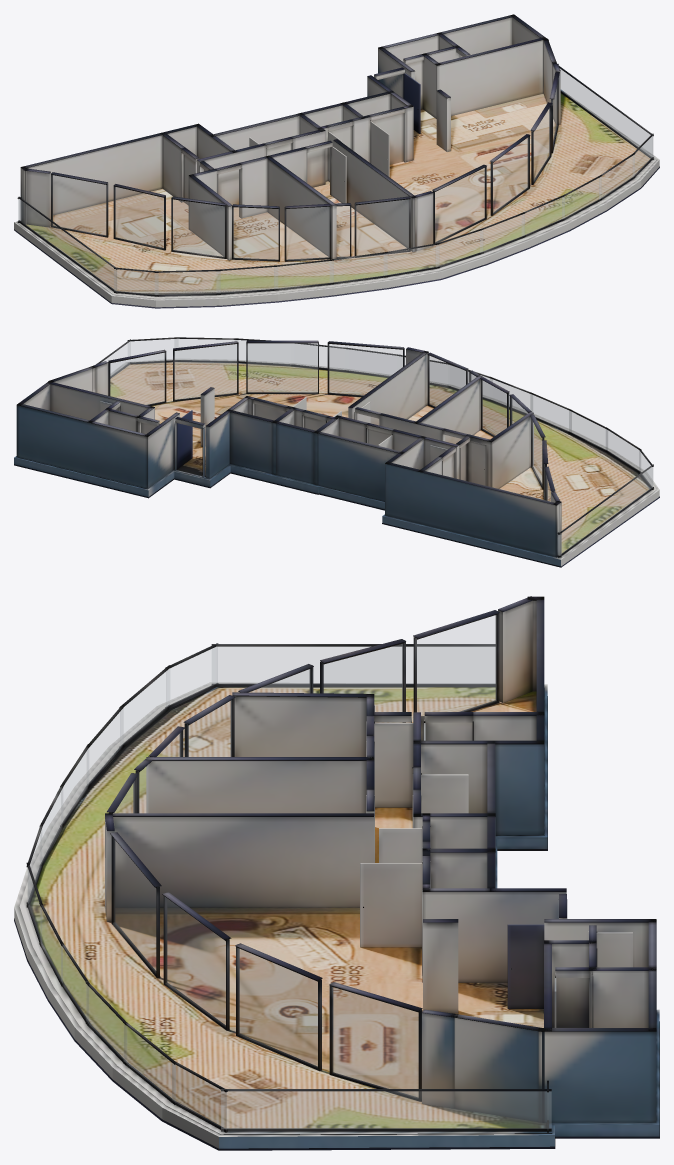
3 views of the same model, one above another, from view 1: azimuth 30°, elevation 25°; view 2: azimuth 150°, elevation 25°; view 3: azimuth 270°, elevation 25° (orthographic). The views are drawn at different scales.
Visible parts, largest first — view 1: plan, glass0_m, glass2_m, glass6_m, glass7_m, glass1_m, glass3_m, glass4_m, railg3_m, railg2_m, glass8_m, railg14_m (+13 smaller); view 2: plan, glass8_m, glass7_m, glass9_m, glass10_m, railg3_m, glass6_m, glass4_m, railg5_m, railg7_m, railg8_m, railg6_m (+9 smaller); view 3: plan, railg2_m, railg3_m, glass10_m, glass9_m, glass0_m, glass8_m, glass1_m, glass7_m, railg4_m, railg15_m, railg5_m (+8 smaller).
Part boxes in pixels (x1,y1,x2,y2): plan: [14, 14, 659, 308]; glass0_m: [52, 175, 105, 235]; glass2_m: [173, 199, 224, 256]; glass6_m: [356, 199, 408, 255]; glass7_m: [435, 168, 484, 242]; glass1_m: [115, 187, 163, 248]; glass3_m: [233, 207, 278, 259]; glass4_m: [286, 207, 329, 259]; railg3_m: [19, 199, 116, 291]; railg2_m: [560, 69, 652, 157]; glass8_m: [493, 138, 528, 212]; railg14_m: [155, 271, 220, 294]; plan: [14, 337, 659, 567]; glass8_m: [248, 343, 317, 392]; glass7_m: [329, 344, 402, 395]; glass9_m: [175, 344, 236, 399]; glass10_m: [110, 353, 164, 404]; railg3_m: [558, 467, 653, 555]; glass6_m: [429, 356, 465, 406]; glass4_m: [482, 380, 506, 435]; railg5_m: [175, 339, 238, 360]; railg7_m: [294, 344, 344, 369]; railg8_m: [349, 350, 396, 375]; railg6_m: [235, 340, 290, 363]; plan: [14, 596, 659, 1150]; railg2_m: [221, 1091, 551, 1128]; railg3_m: [212, 647, 494, 683]; glass10_m: [332, 987, 418, 1097]; glass9_m: [239, 949, 317, 1066]; glass0_m: [417, 615, 496, 715]; glass8_m: [166, 898, 225, 1026]; glass1_m: [324, 644, 402, 711]; glass7_m: [114, 839, 155, 972]; railg4_m: [172, 1063, 226, 1129]; railg15_m: [166, 647, 217, 706]; railg5_m: [124, 1024, 175, 1101].
Size of the model in its own units: 24.16 by 2.62 by 14.5.
Materials: 2 (1 with a texture image).
